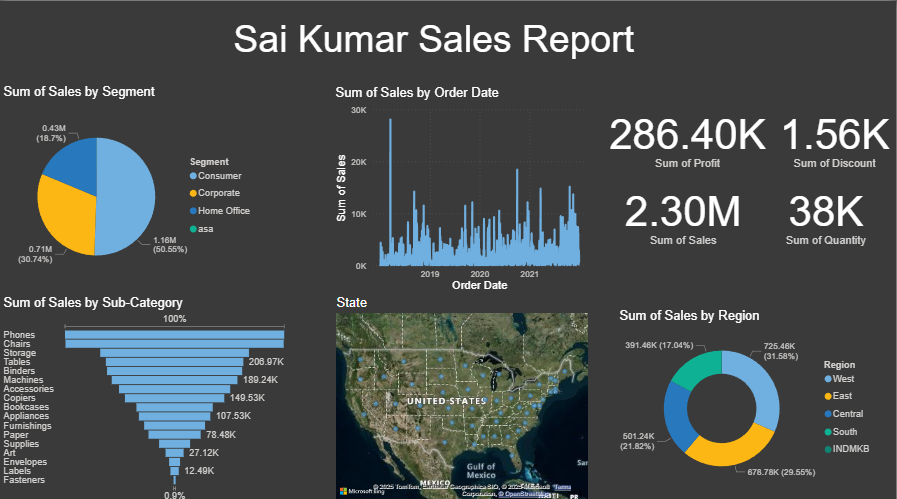

The page's visual inventory and layout, read from the dashboard file:
{"tool":"powerbi","page":{"name":"Page 1","canvas":[1280,720],"ordinal":0},"visuals":[{"type":"donutChart","fields":{"Category":["Sai kumar sales data xlsx - Orders.Region"],"Y":["Sai kumar sales data xlsx - Orders.Sales"]},"box":[880,438,376,266],"z":0},{"type":"funnel","fields":{"Category":["Sai kumar sales data xlsx - Orders.Sub-Category"],"Y":["Sai kumar sales data xlsx - Orders.Sales"]},"box":[0,420,416,300],"z":1000},{"type":"map","fields":{"Category":["Sai kumar sales data xlsx - Orders.State"]},"box":[476,420,370,300],"z":2000},{"type":"pieChart","fields":{"Category":["Sai kumar sales data xlsx - Orders.Segment"],"Y":["Sai kumar sales data xlsx - Orders.Sales"]},"box":[0,119.3,371.2,300.7],"z":3000},{"type":"lineChart","fields":{"Category":["Sai kumar sales data xlsx - Orders.Order Date"],"Y":["Sai kumar sales data xlsx - Orders.Sales"]},"box":[474,120,372,300],"z":4000},{"type":"card","fields":{"Values":["Sai kumar sales data xlsx - Orders.Sales"]},"box":[880,248,192,112],"z":5000},{"type":"card","fields":{"Values":["Sai kumar sales data xlsx - Orders.Profit"]},"box":[860,140,244,108],"z":6000},{"type":"card","fields":{"Values":["Sai kumar sales data xlsx - Orders.Discount"]},"box":[1104,140,176,108],"z":7000},{"type":"card","fields":{"Values":["Sai kumar sales data xlsx - Orders.Quantity"]},"box":[1103.6,250.3,151.2,109.2],"z":7001},{"type":"textbox","box":[96,18,1048,78],"z":7002}]}

Visuals, with their boxes in screenshot pixels (x1, y1, x2, y2), scaled from the page's 1280x720 canvas onto the 897x499 screenshot:
donutChart - Sai kumar sales data xlsx - Orders.Region x Sai kumar sales data xlsx - Orders.Sales: (left=617, top=304, right=880, bottom=488)
funnel - Sai kumar sales data xlsx - Orders.Sub-Category x Sai kumar sales data xlsx - Orders.Sales: (left=0, top=291, right=292, bottom=498)
map - Sai kumar sales data xlsx - Orders.State: (left=334, top=291, right=593, bottom=498)
pieChart - Sai kumar sales data xlsx - Orders.Segment x Sai kumar sales data xlsx - Orders.Sales: (left=0, top=83, right=260, bottom=291)
lineChart - Sai kumar sales data xlsx - Orders.Order Date x Sai kumar sales data xlsx - Orders.Sales: (left=332, top=83, right=593, bottom=291)
card - Sai kumar sales data xlsx - Orders.Sales: (left=617, top=172, right=751, bottom=250)
card - Sai kumar sales data xlsx - Orders.Profit: (left=603, top=97, right=774, bottom=172)
card - Sai kumar sales data xlsx - Orders.Discount: (left=774, top=97, right=896, bottom=172)
card - Sai kumar sales data xlsx - Orders.Quantity: (left=773, top=173, right=879, bottom=249)
textbox: (left=67, top=12, right=802, bottom=67)
